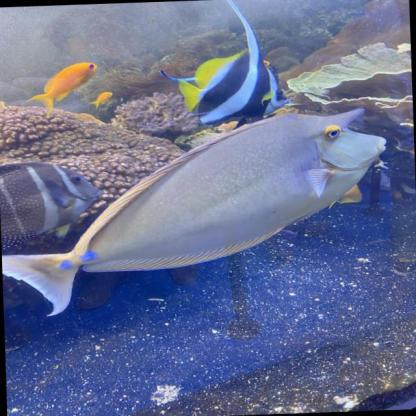fish: (0, 106, 392, 319), (0, 159, 103, 251), (176, 47, 293, 125), (25, 61, 99, 116), (89, 91, 112, 109)
